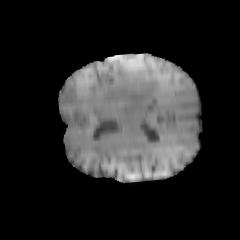glioma: (100, 64, 163, 113)
